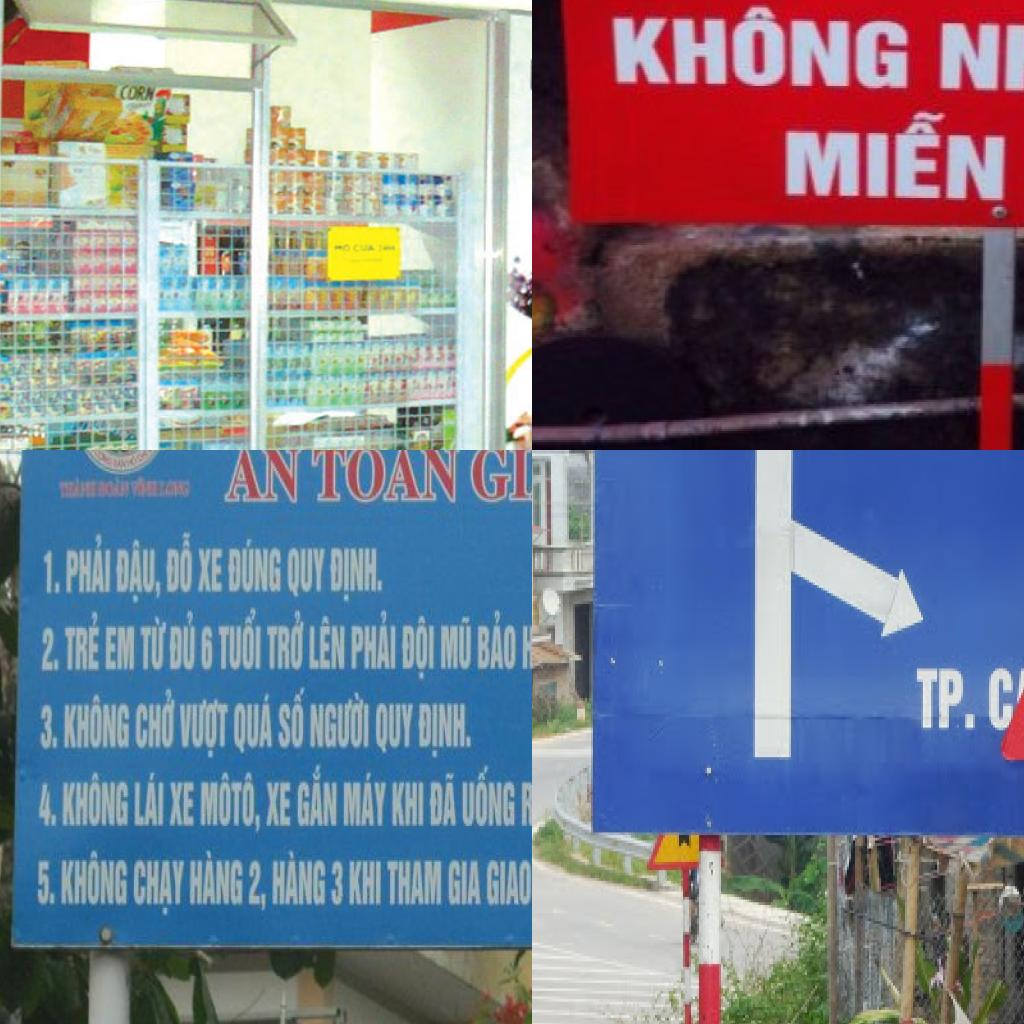text: (612, 1, 910, 90), (784, 106, 1008, 203), (308, 450, 465, 512), (938, 7, 1024, 115), (909, 663, 981, 738), (218, 450, 305, 508), (199, 768, 265, 838), (59, 848, 130, 911), (61, 768, 131, 829), (64, 691, 132, 751), (227, 532, 285, 598), (462, 764, 516, 834), (310, 691, 370, 751), (420, 694, 474, 760), (271, 850, 329, 911), (188, 848, 245, 910), (115, 538, 165, 608), (178, 696, 232, 760), (328, 543, 385, 602), (472, 450, 532, 506), (134, 854, 188, 916), (349, 606, 398, 674), (64, 532, 114, 598), (297, 761, 340, 831), (386, 857, 445, 908), (343, 770, 391, 832), (218, 608, 264, 672), (233, 689, 276, 756), (477, 609, 519, 674), (400, 613, 439, 681), (267, 608, 308, 672), (134, 689, 176, 751), (486, 856, 532, 909), (286, 541, 328, 599), (374, 698, 416, 756), (307, 613, 348, 672), (985, 666, 1017, 741), (65, 609, 101, 674), (438, 612, 474, 676), (277, 681, 308, 752), (164, 530, 196, 596), (133, 768, 166, 829), (448, 856, 484, 910), (390, 778, 427, 830), (139, 614, 170, 674), (103, 621, 138, 674), (429, 768, 459, 829), (348, 858, 384, 908), (168, 610, 196, 672), (262, 778, 294, 828), (197, 542, 226, 596), (246, 855, 270, 916), (168, 778, 196, 830), (36, 623, 60, 676), (36, 698, 60, 751), (40, 543, 62, 597), (38, 778, 58, 833), (36, 858, 58, 908), (97, 474, 131, 502), (160, 476, 196, 502), (519, 772, 532, 841), (56, 478, 98, 498), (330, 857, 346, 908), (200, 621, 214, 674), (120, 83, 157, 101)
